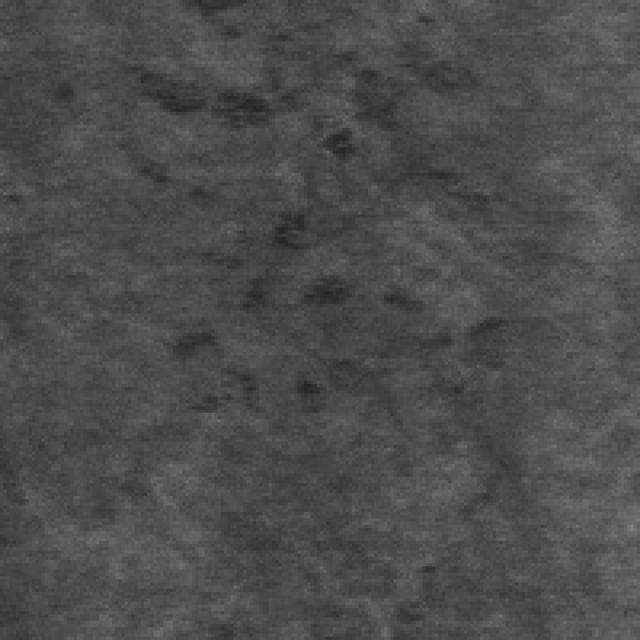rolled-in_scale: (134, 70, 374, 410)
